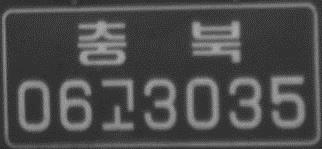0: (184, 74, 222, 133), (16, 77, 51, 134)
3: (228, 74, 263, 131), (143, 76, 177, 134)
5: (267, 72, 307, 131)
6: (57, 76, 94, 133)
고: (98, 76, 137, 134)
충북_D: (75, 18, 243, 68)
